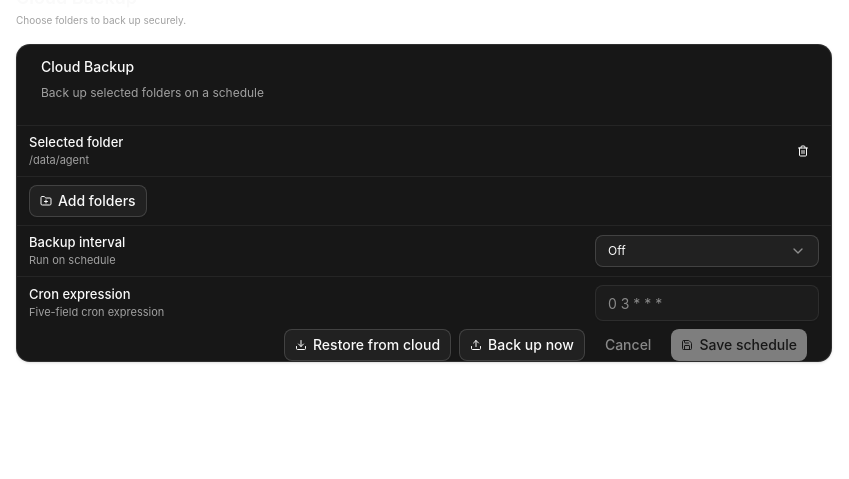
Test: keeps a newer completion event when the backup command resolves late
This screenshot has width=849, height=479.
Click the button "Back up now".
click(522, 345)  # box [459,329,585,361]
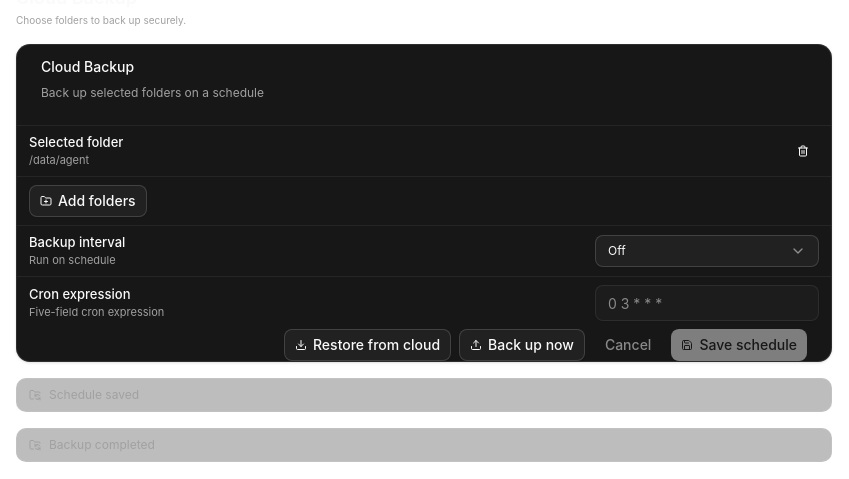
Check: the text "Backup completed" is shown, box [49,437,155,453]
